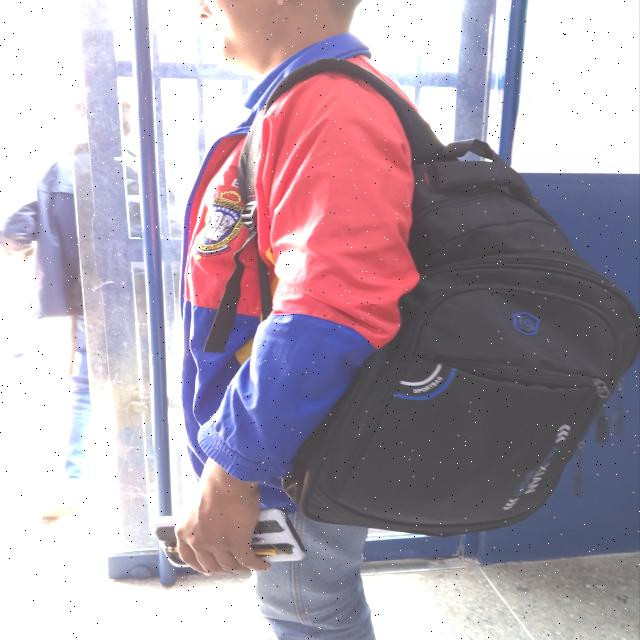chaqueta_unefa: (180, 31, 446, 514)
